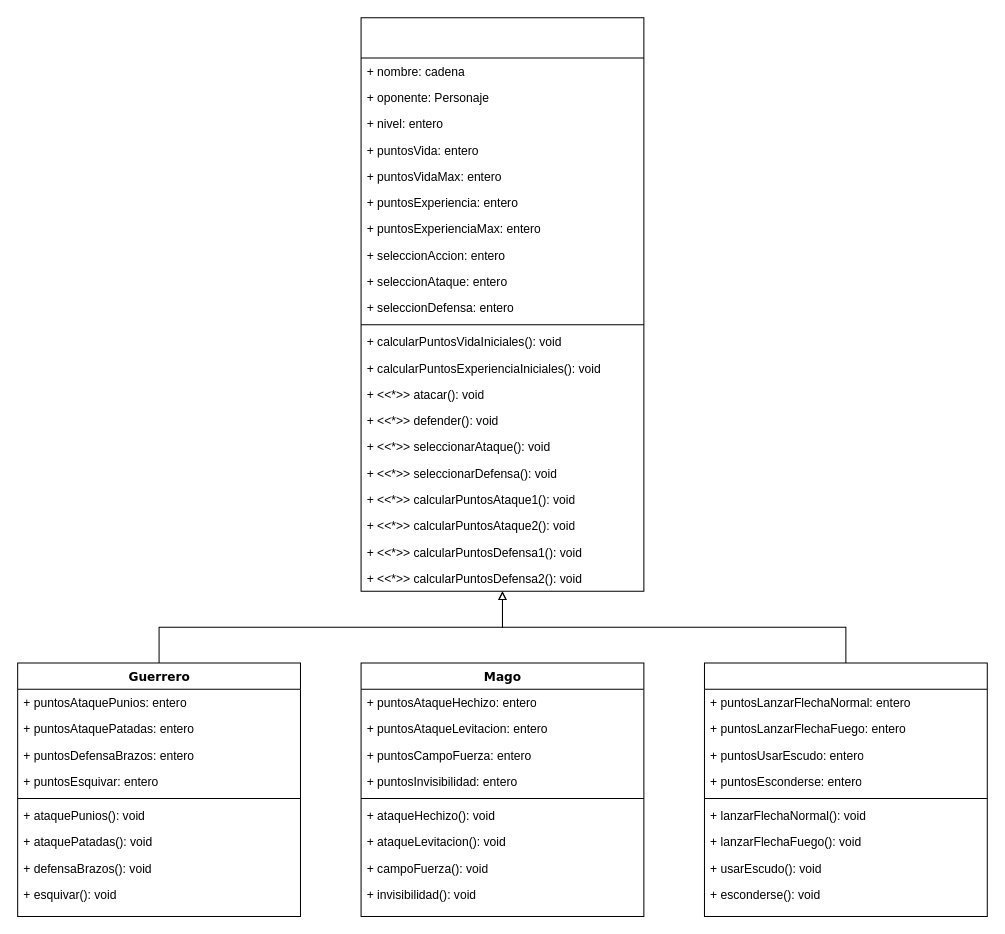
This 1005x934 diagram has some shape labels left out. Each missing label, with the box of its shape:
<<<<abstract>>>>> Personaje: (360, 17, 644, 591)
Arquero: (703, 662, 987, 917)
